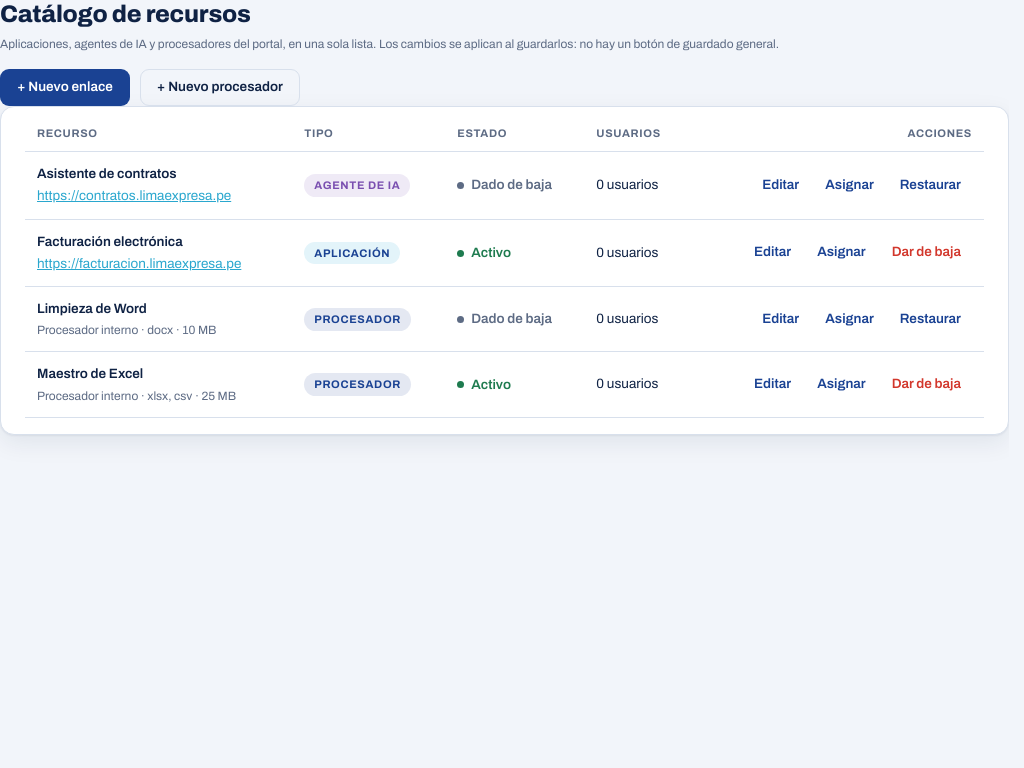
Test: <CatalogoAdmin /> › edita un procesador contra la suya, cargando solo lo que se movió
Click the button with aria-label "editar maestro de excel": (773, 385) [743, 366, 802, 403]
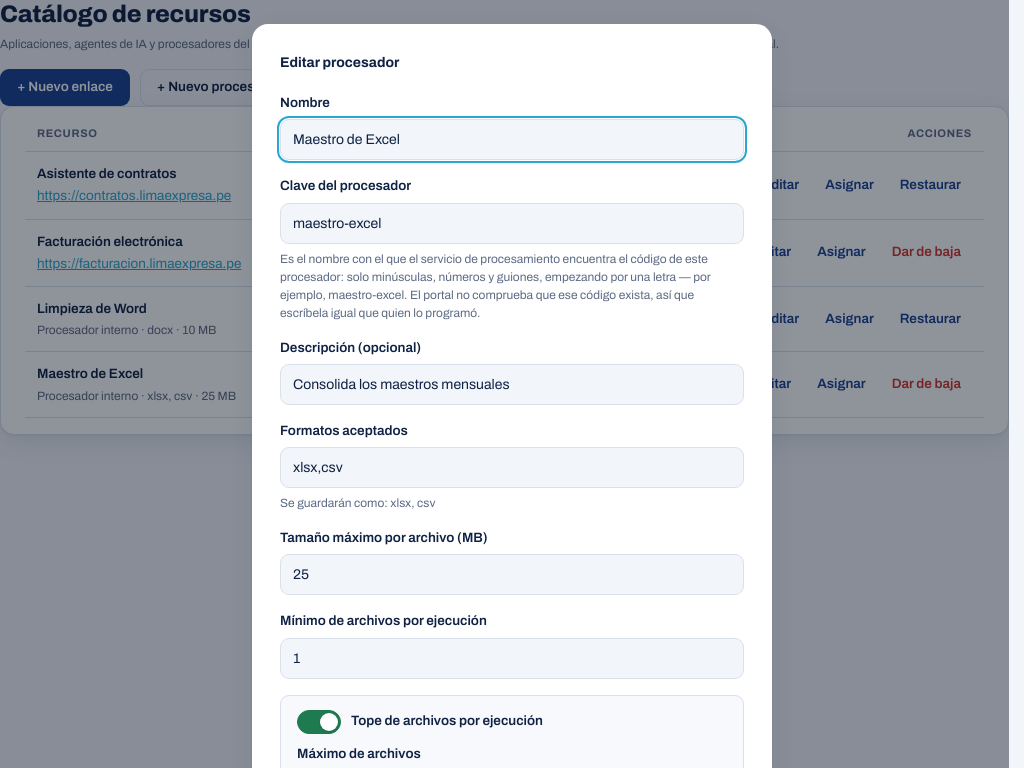
In the field labelled "Tamaño máximo por archivo (MB)": (512, 575) [280, 554, 744, 595], type "10"
(page scrolled)
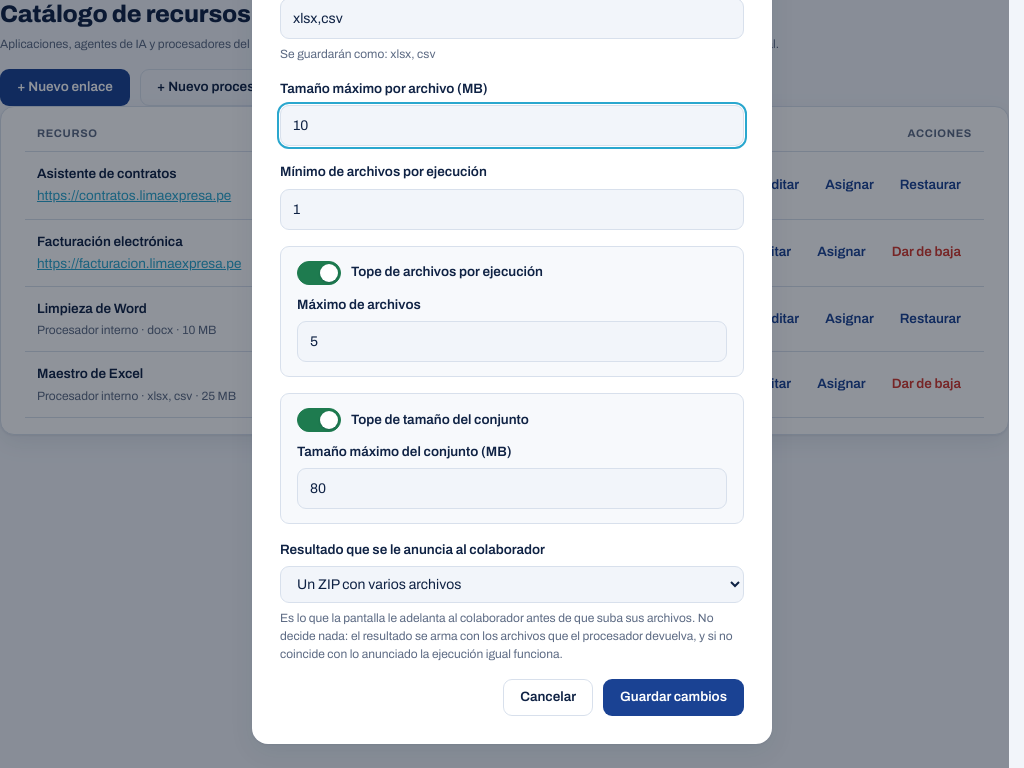
Click the button "Guardar cambios": (674, 698) [603, 679, 744, 716]
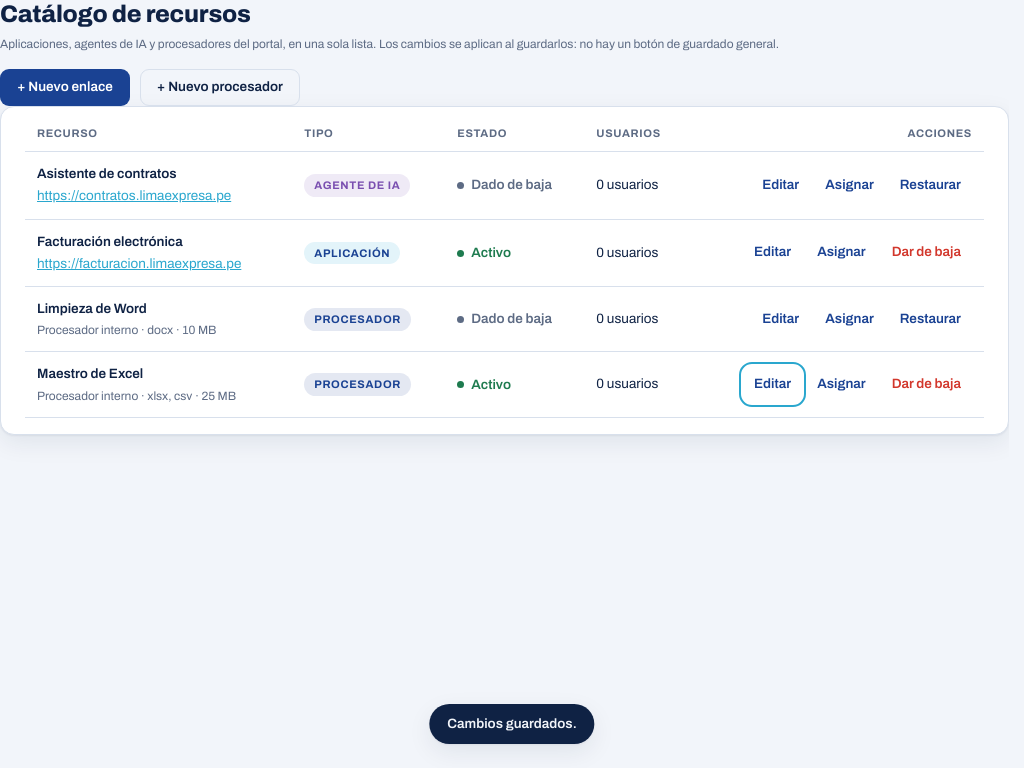
Result: the text "Cambios guardados." is shown at [429, 704, 595, 744]
